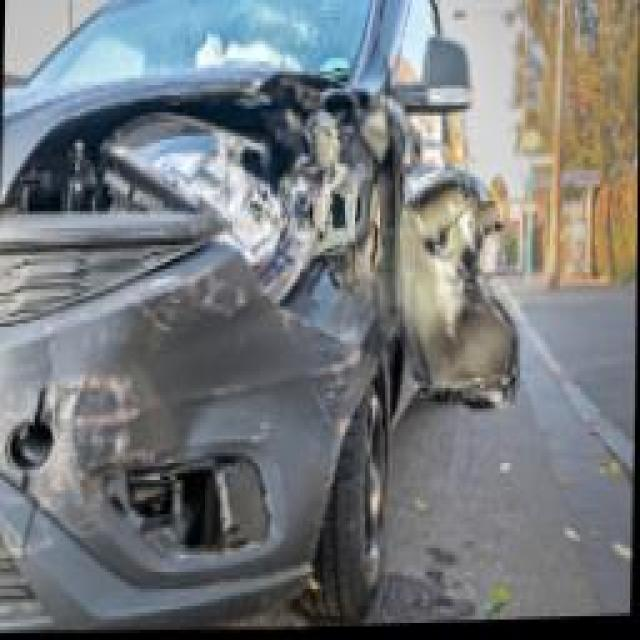Bumper: (25, 323, 287, 611)
Light: (78, 119, 304, 293), (290, 174, 394, 395)
